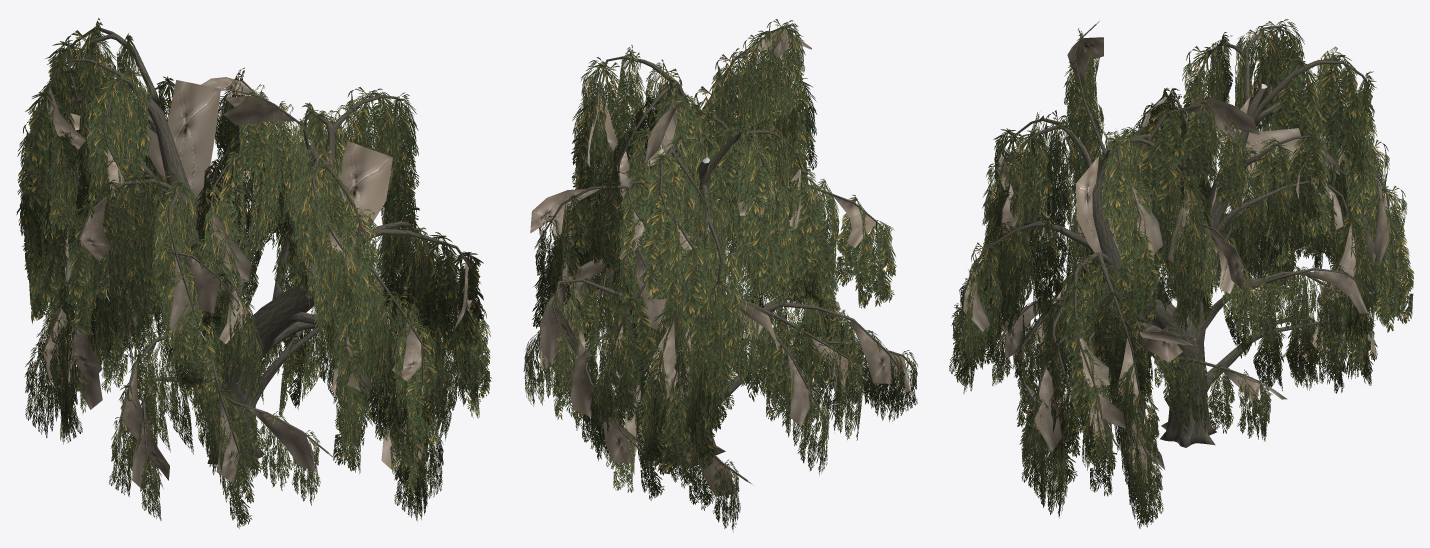
The model's file is MarshWillow_7.fbx.
3 renders of one model, left to right at view 1: azimuth 30°, elevation 25°; view 2: azimuth 150°, elevation 25°; view 3: azimuth 270°, elevation 25°, orthographic. The views are drawn at different scales.
Visible parts, largest first — view 1: MarshWillow_7; view 2: MarshWillow_7; view 3: MarshWillow_7.
Part boxes in pixels (left/top/right/bottom): MarshWillow_7: left=16, top=18, right=491, bottom=528; MarshWillow_7: left=523, top=19, right=917, bottom=532; MarshWillow_7: left=949, top=19, right=1414, bottom=528.
Bounding box in the file's own units: 34.15 × 37.62 × 37.28.
